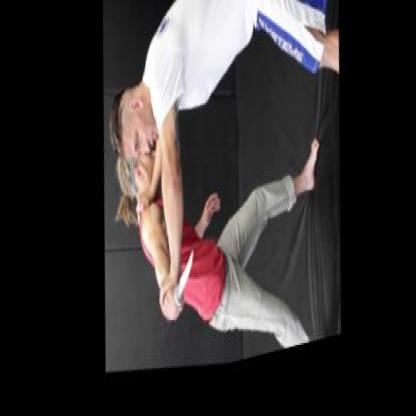knife: (154, 247, 196, 341)
